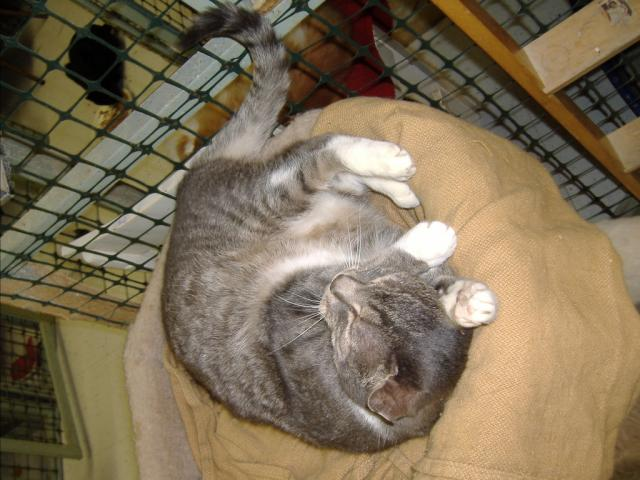Cat: (162, 8, 494, 456)
